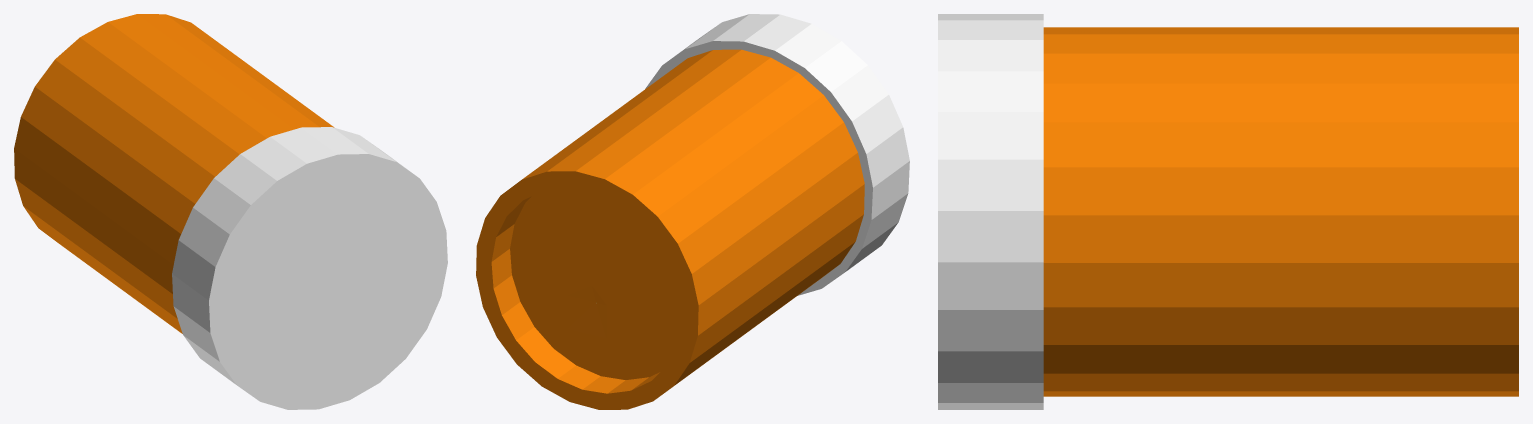
3 views of the same model, side by side, from view 1: azimuth 30°, elevation 25°; view 2: azimuth 150°, elevation 25°; view 3: azimuth 270°, elevation 25° (orthographic). The views are drawn at different scales.
Visible parts, largest first — view 1: medication pills; view 2: medication pills; view 3: medication pills.
Part boxes in pixels (x1=…): medication pills: x1=14, y1=14, x2=447, y2=409; medication pills: x1=476, y1=14, x2=909, y2=409; medication pills: x1=938, y1=14, x2=1518, y2=409.
Size of the model in its own units: 1.87 by 1.87 by 2.75.
